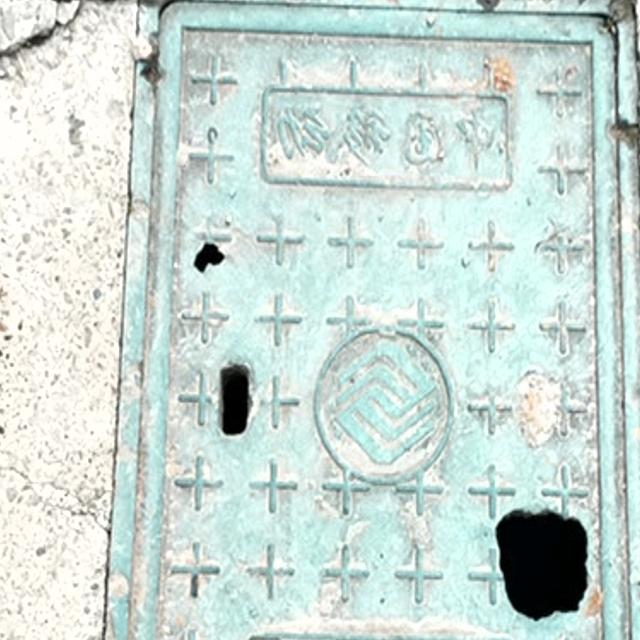broke: (97, 0, 640, 640)
